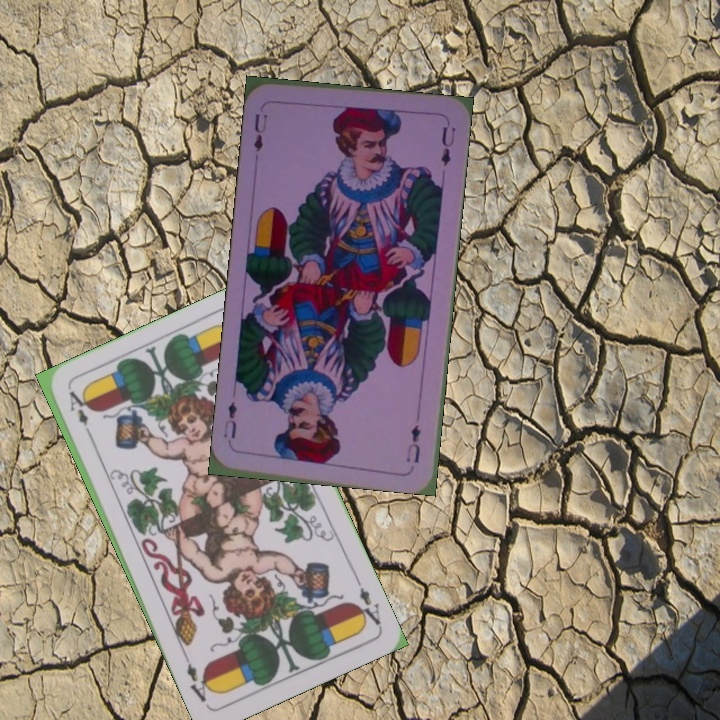EA: (351, 574, 384, 629), (65, 386, 96, 442)
EU: (249, 109, 271, 155), (403, 420, 423, 466)
